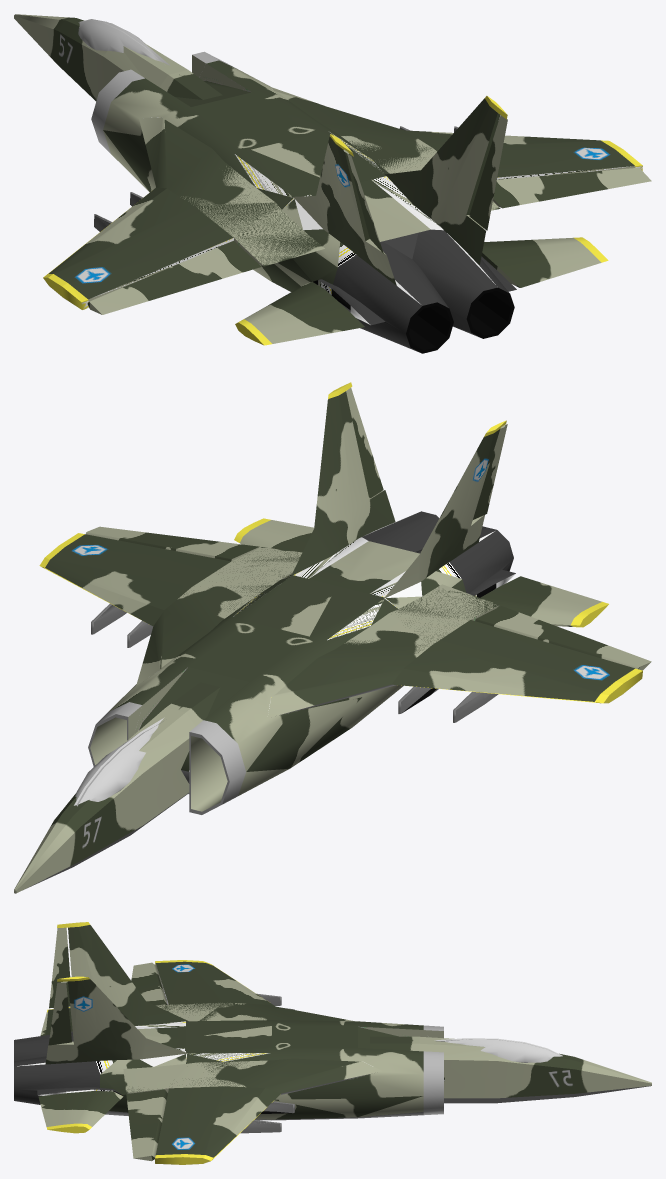
Rendered from NewFighterPlane.fbx.
The picture shows the model from 3 angles, top to bottom: view 1: azimuth 30°, elevation 25°; view 2: azimuth 150°, elevation 25°; view 3: azimuth 270°, elevation 25°; orthographic projection. The views are drawn at different scales.
Parts seen in each view (by area): view 1: Fuselage, LeftWing, LeftBaseWing, RightBackWing, RightWing., LeftBackWing, ElevatorLeft, RightBaseWing, LeftFlap, ElevatorRight, RightFlap, RightRudder (+1 smaller); view 2: Fuselage, LeftWing, LeftBaseWing, RightWing., RightBackWing, RightBaseWing, LeftBackWing, ElevatorLeft, LeftFlap, RightFlap, ElevatorRight, RightRudder (+1 smaller); view 3: Fuselage, RightWing., RightBaseWing, RightBackWing, LeftBackWing, LeftWing, ElevatorRight, LeftBaseWing, RightFlap, RightRudder, LeftFlap, LeftRudder.
Part boxes in pixels (bbox=[...]): Fuselage: bbox=[14, 14, 516, 353]; LeftWing: bbox=[43, 187, 233, 309]; LeftBaseWing: bbox=[139, 117, 324, 266]; RightBackWing: bbox=[385, 96, 507, 265]; RightWing.: bbox=[399, 126, 642, 179]; LeftBackWing: bbox=[293, 134, 396, 285]; ElevatorLeft: bbox=[235, 282, 364, 345]; RightBaseWing: bbox=[270, 86, 500, 210]; LeftFlap: bbox=[87, 241, 261, 314]; ElevatorRight: bbox=[481, 237, 608, 287]; RightFlap: bbox=[493, 167, 651, 208]; RightRudder: bbox=[469, 115, 507, 230]; Fuselage: bbox=[14, 511, 515, 893]; LeftWing: bbox=[391, 620, 642, 722]; LeftBaseWing: bbox=[267, 584, 499, 718]; RightWing.: bbox=[39, 533, 230, 647]; RightBackWing: bbox=[291, 382, 395, 576]; RightBaseWing: bbox=[136, 547, 302, 685]; LeftBackWing: bbox=[384, 420, 506, 598]; ElevatorLeft: bbox=[480, 576, 608, 627]; LeftFlap: bbox=[475, 606, 651, 670]; RightFlap: bbox=[86, 526, 259, 561]; ElevatorRight: bbox=[234, 518, 314, 552]; RightRudder: bbox=[346, 388, 383, 498]; Fuselage: bbox=[14, 1020, 651, 1120]; RightWing.: bbox=[154, 1086, 294, 1164]; RightBaseWing: bbox=[123, 1058, 381, 1095]; RightBackWing: bbox=[45, 976, 188, 1064]; LeftBackWing: bbox=[45, 922, 188, 1035]; LeftWing: bbox=[155, 960, 294, 1009]; ElevatorRight: bbox=[38, 1091, 123, 1133]; LeftBaseWing: bbox=[157, 1002, 354, 1021]; RightFlap: bbox=[126, 1089, 167, 1161]; RightRudder: bbox=[48, 981, 71, 1045]; LeftFlap: bbox=[131, 962, 167, 1006]; LeftRudder: bbox=[49, 927, 70, 1008].
Size of the model in its own units: 1086 by 397 by 1484.
